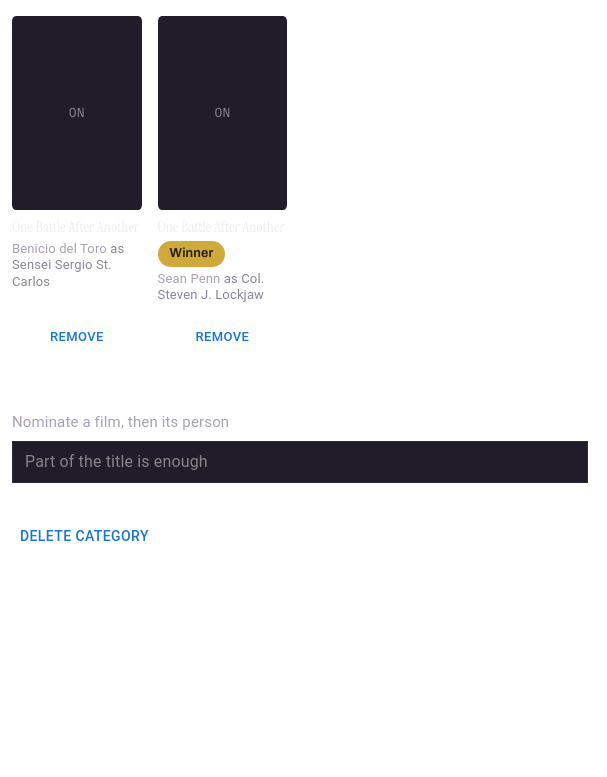
Test: CategoryAdmin — nominating › marks a person already nominated for this film here, and will not attach them twice
Type "one battle" into the search field.
click(300, 462); type("one battle")  # box [12,441,588,483]
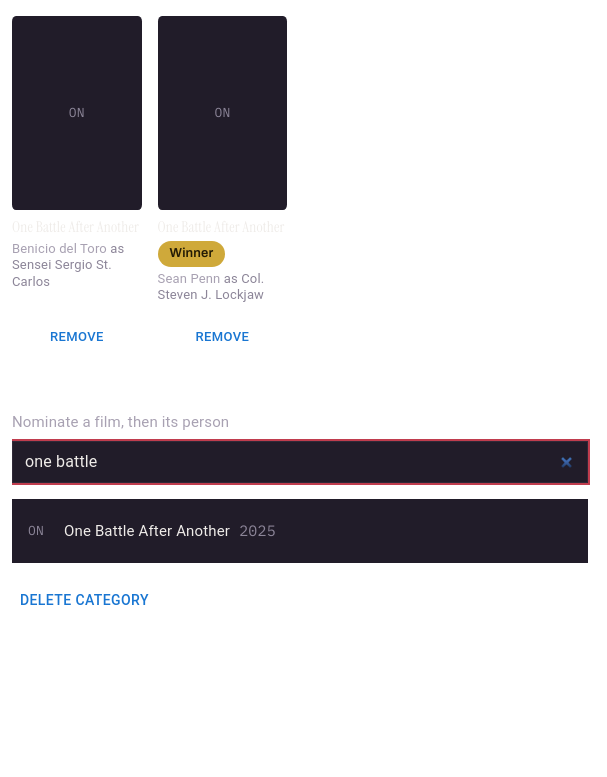
Click the button "ON One Battle After Another 2025".
click(36, 531)  # box [12,499,588,563]
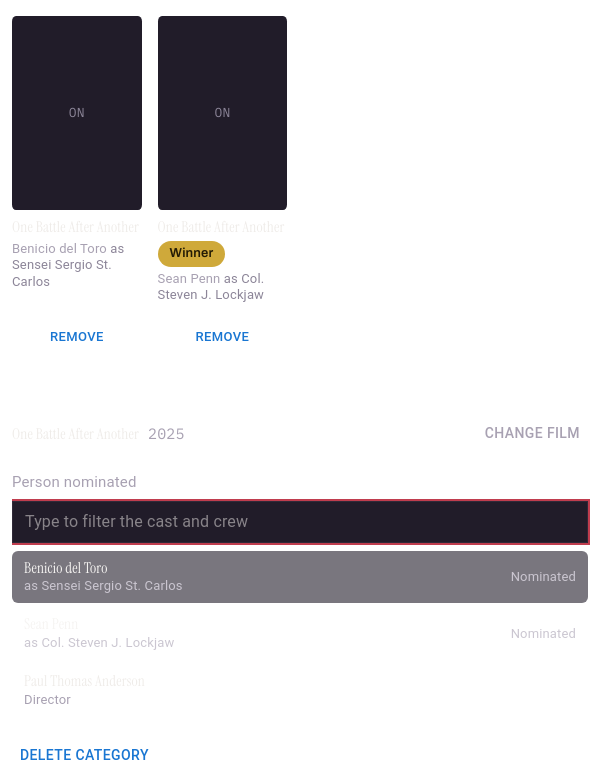
Expected: the button "Sean Penn as Col. Steven J. Lockjaw Nominated" is disabled, [12,607,588,660]
Expected: the button "Sean Penn as Col. Steven J. Lockjaw Nominated" is shown, [12,607,588,660]
Expected: the button "Paul Thomas Anderson Director" is enabled, [12,664,588,717]
